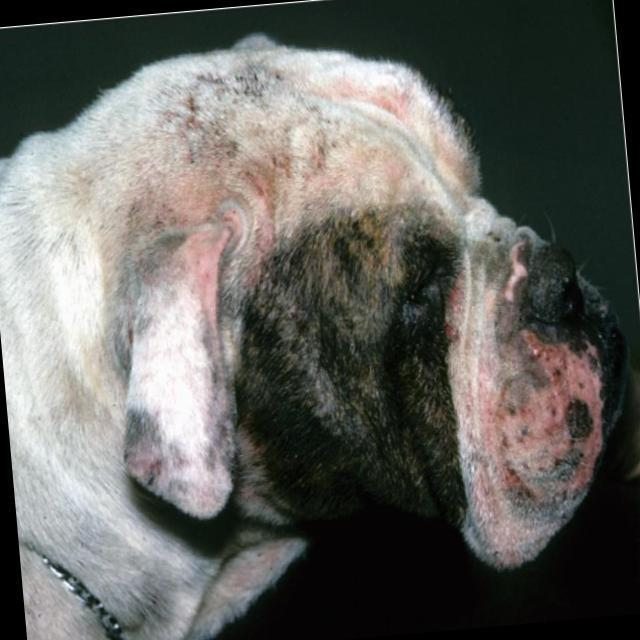mange: (113, 30, 622, 568)
